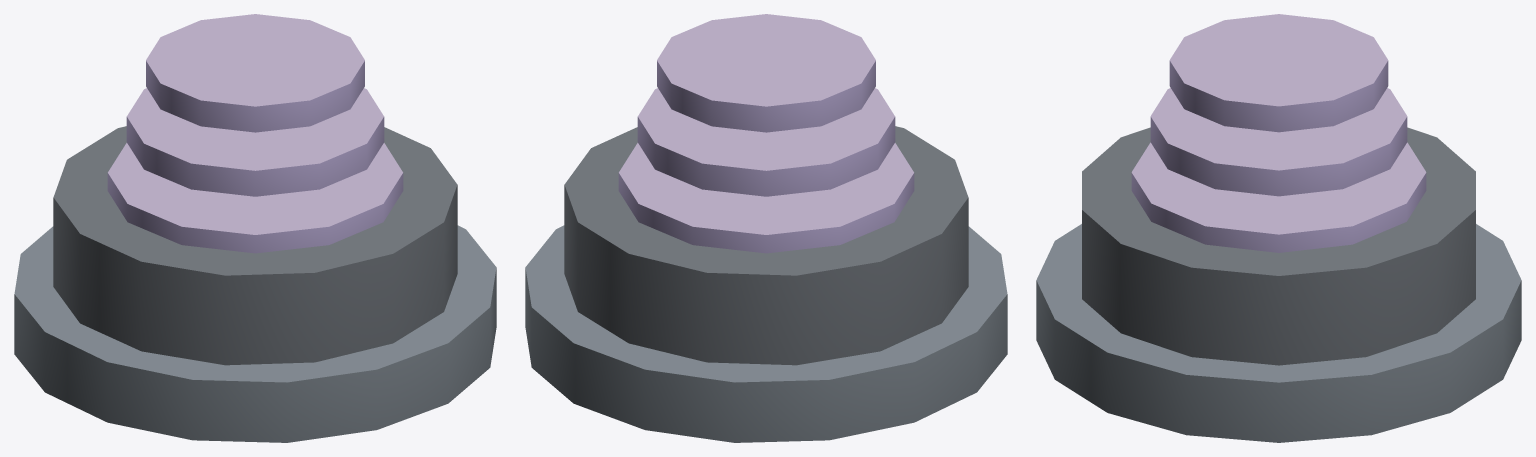
File: t_tesla.glb
The picture shows the model from 3 angles, left to right: view 1: azimuth 30°, elevation 25°; view 2: azimuth 150°, elevation 25°; view 3: azimuth 270°, elevation 25°; orthographic projection.
Parts seen in each view (by area): view 1: t_tesla; view 2: t_tesla; view 3: t_tesla.
Boxes of the visible parts, box(x1,y1,x2,y2) form: t_tesla: box(14, 14, 496, 442); t_tesla: box(525, 14, 1007, 442); t_tesla: box(1036, 14, 1521, 442).
Size of the model in its own units: 2.04 by 1.3 by 2.04.
